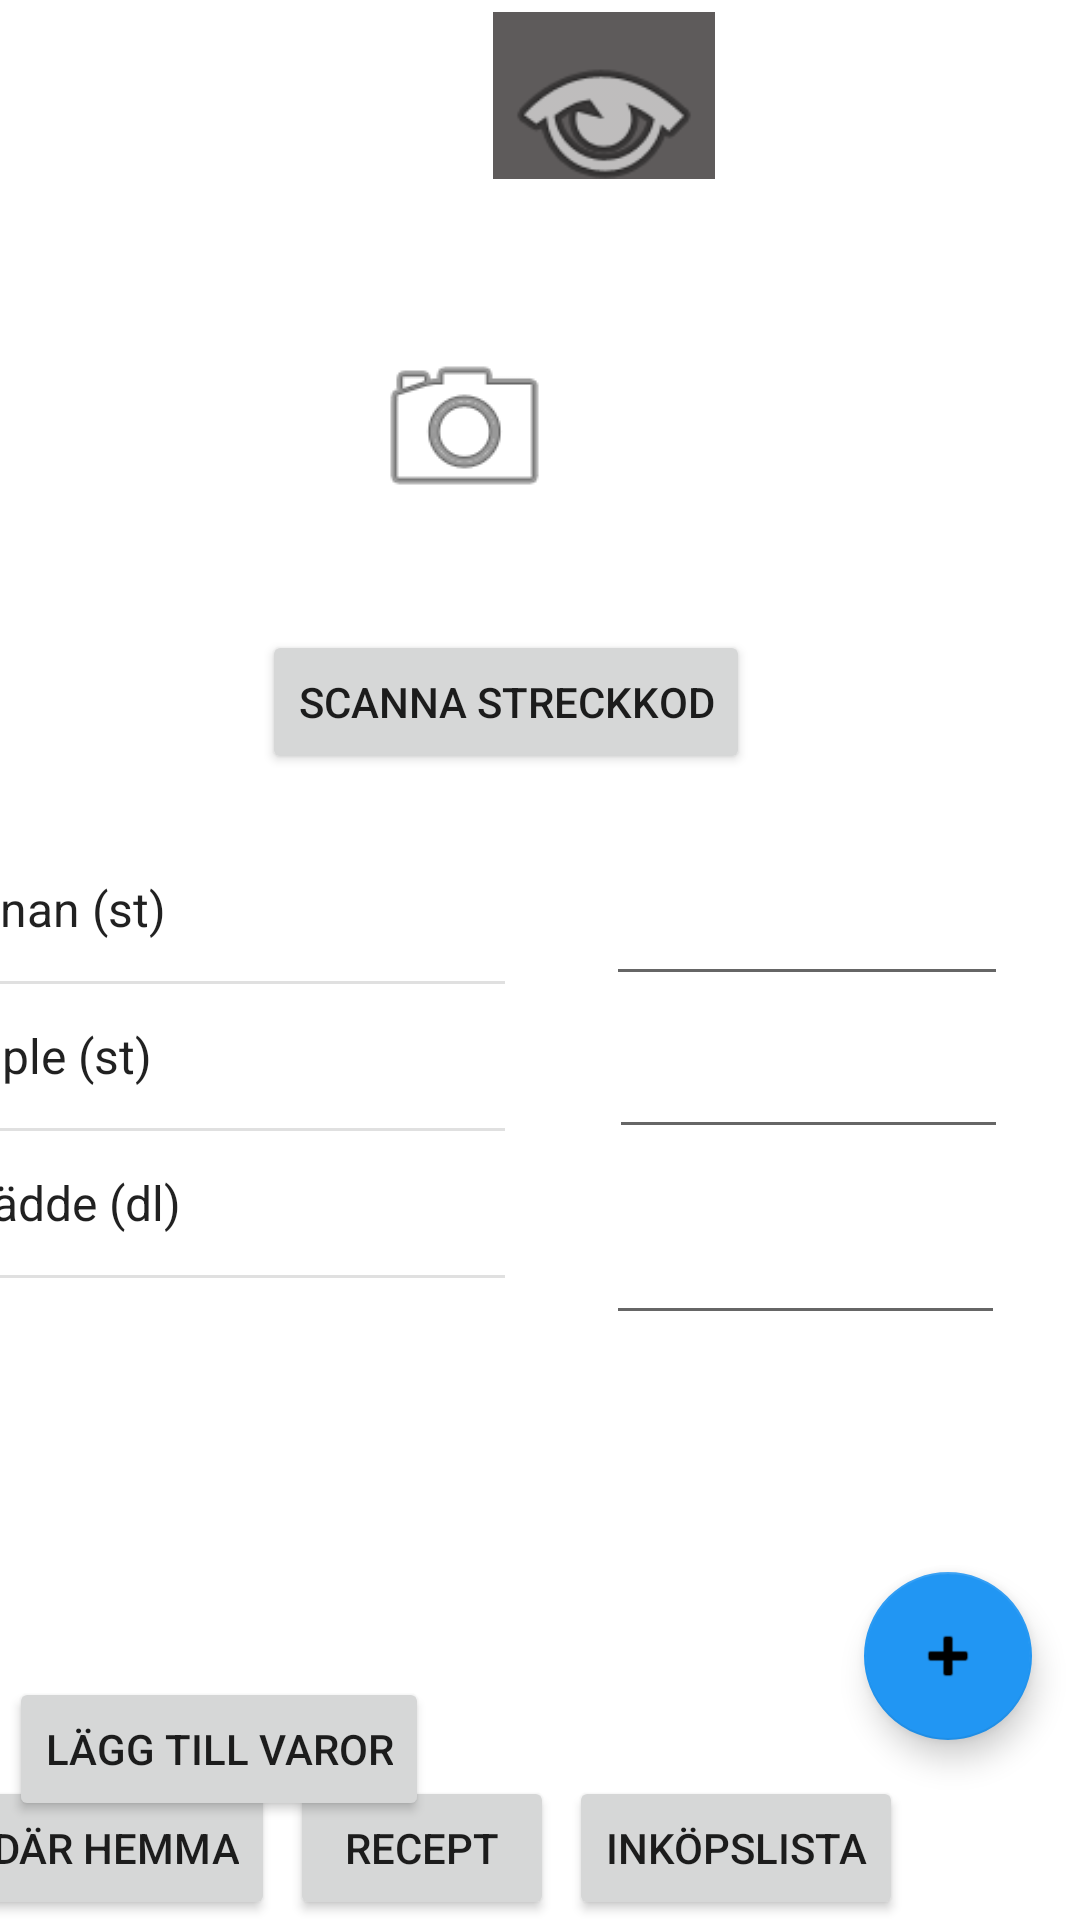

Where icons sit on this 1080*1920 app screen, as (x1, y1, x2, y2):
add: (864, 1572, 1032, 1740)
